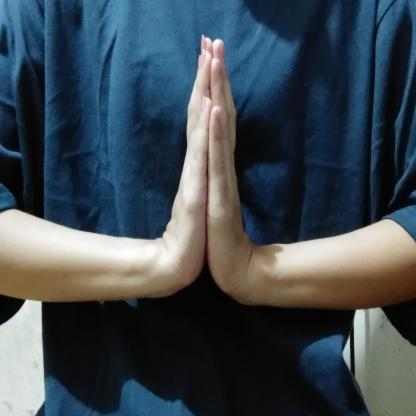sorry: (156, 29, 270, 311)
